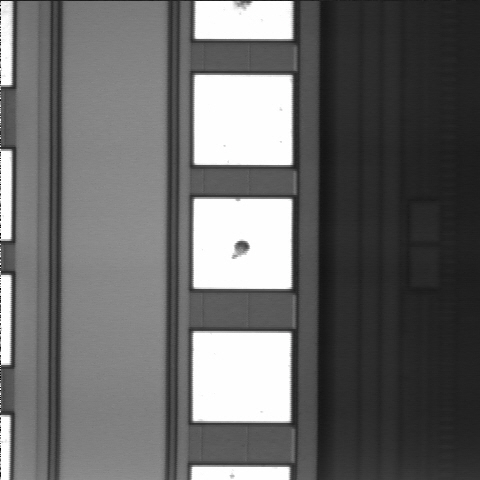pad: (194, 75, 292, 165), (194, 199, 292, 289), (193, 332, 291, 422)
